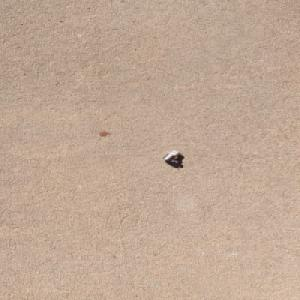MetalPart: (161, 149, 181, 164)
